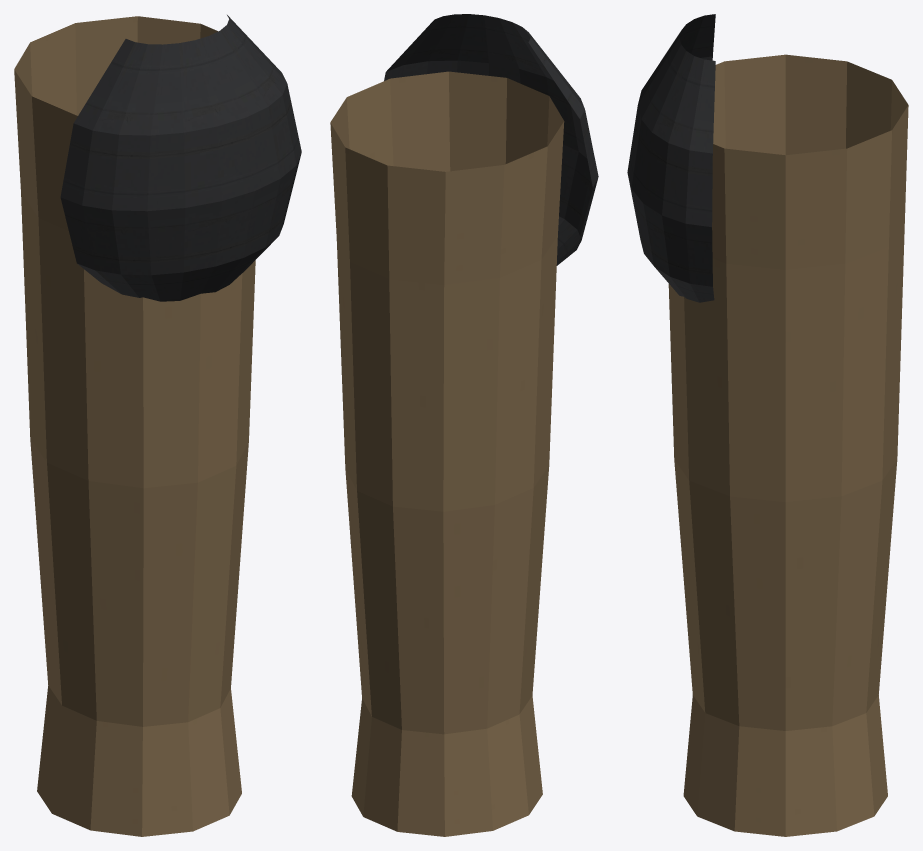
File: eq_present_2_leg.glb
3 renders of one model, left to right at view 1: azimuth 30°, elevation 25°; view 2: azimuth 150°, elevation 25°; view 3: azimuth 270°, elevation 25°, orthographic. The views are drawn at different scales.
Visible parts, largest first — view 1: eq_present_2_leg; view 2: eq_present_2_leg; view 3: eq_present_2_leg.
Part boxes in pixels (x1,y1,x2,y2): eq_present_2_leg: [14, 15, 301, 836]; eq_present_2_leg: [330, 14, 598, 836]; eq_present_2_leg: [627, 14, 908, 836].
Size of the model in its own units: 0.1452 by 0.468 by 0.1572.
Materials: 2 (2 with a texture image).
